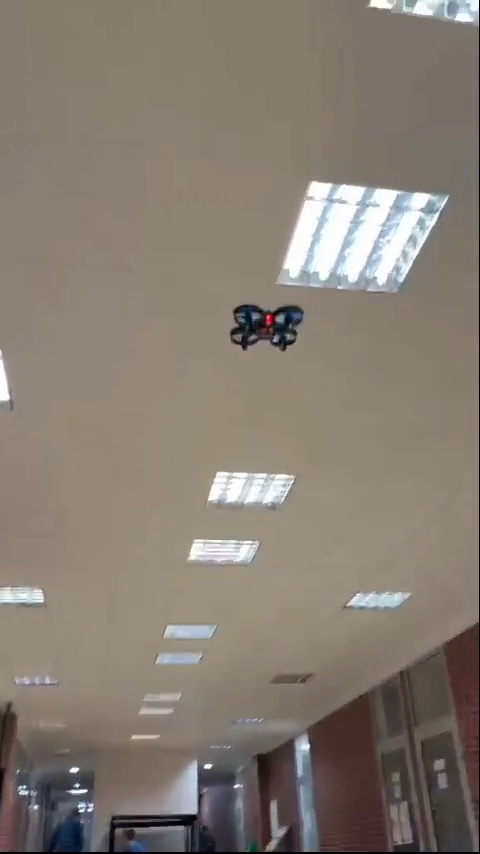drone: (233, 305, 306, 351)
